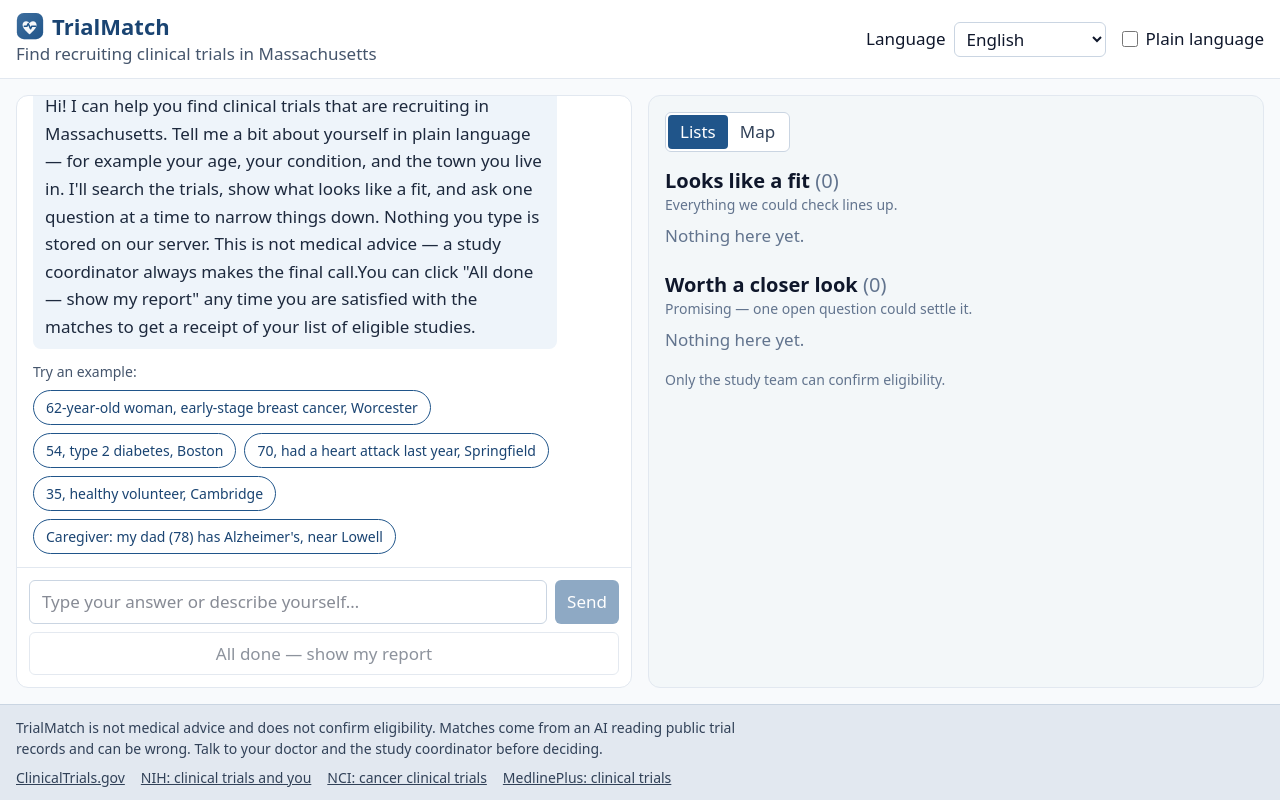
Test: App › finish button sends finish:true and shows the report
The image size is (1280, 800).
(page scrolled)
Expected: the button "All done — show my report" is disabled, top-left (29, 632), bottom-right (619, 675)
Step 1. Type "diabetes" into the field named "Your message" → x=288, y=602, box top-left (29, 580), bottom-right (547, 624)
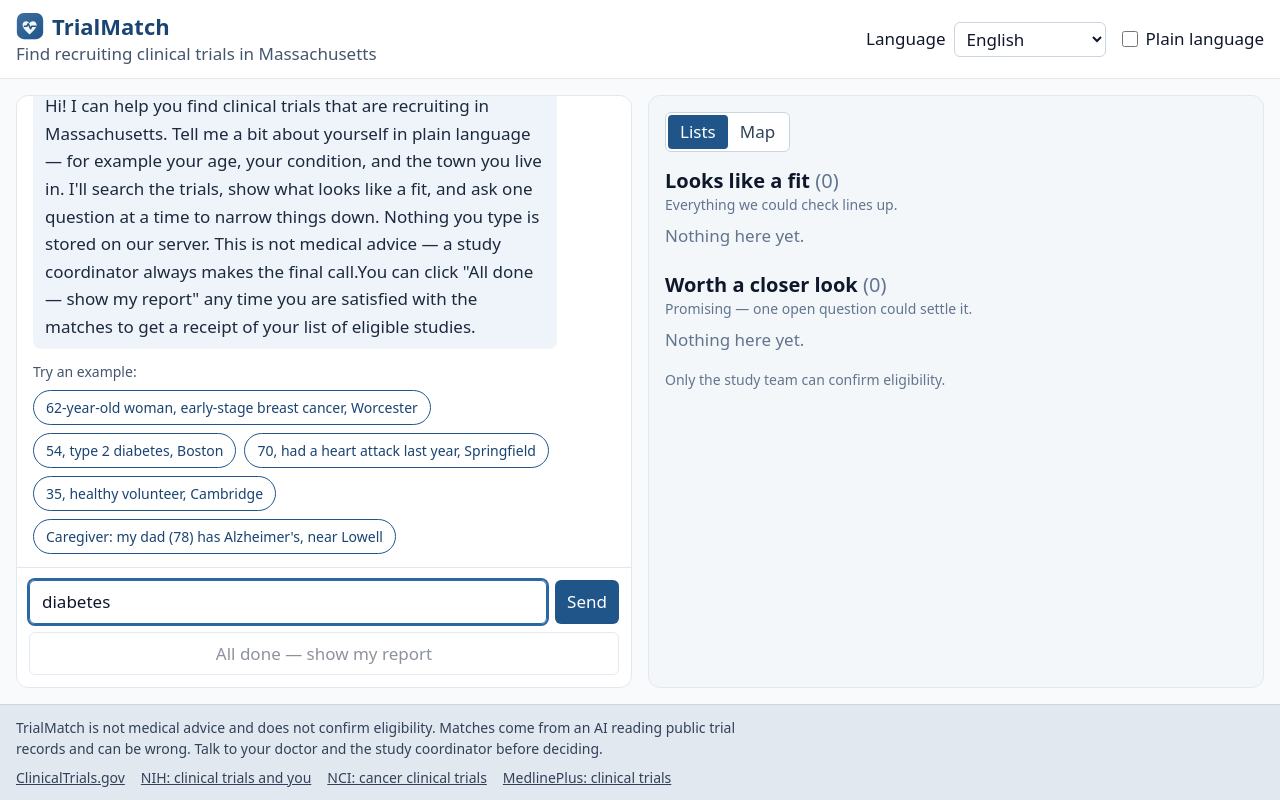
Step 2. Click the button "Send" → x=587, y=602, box top-left (555, 580), bottom-right (619, 624)
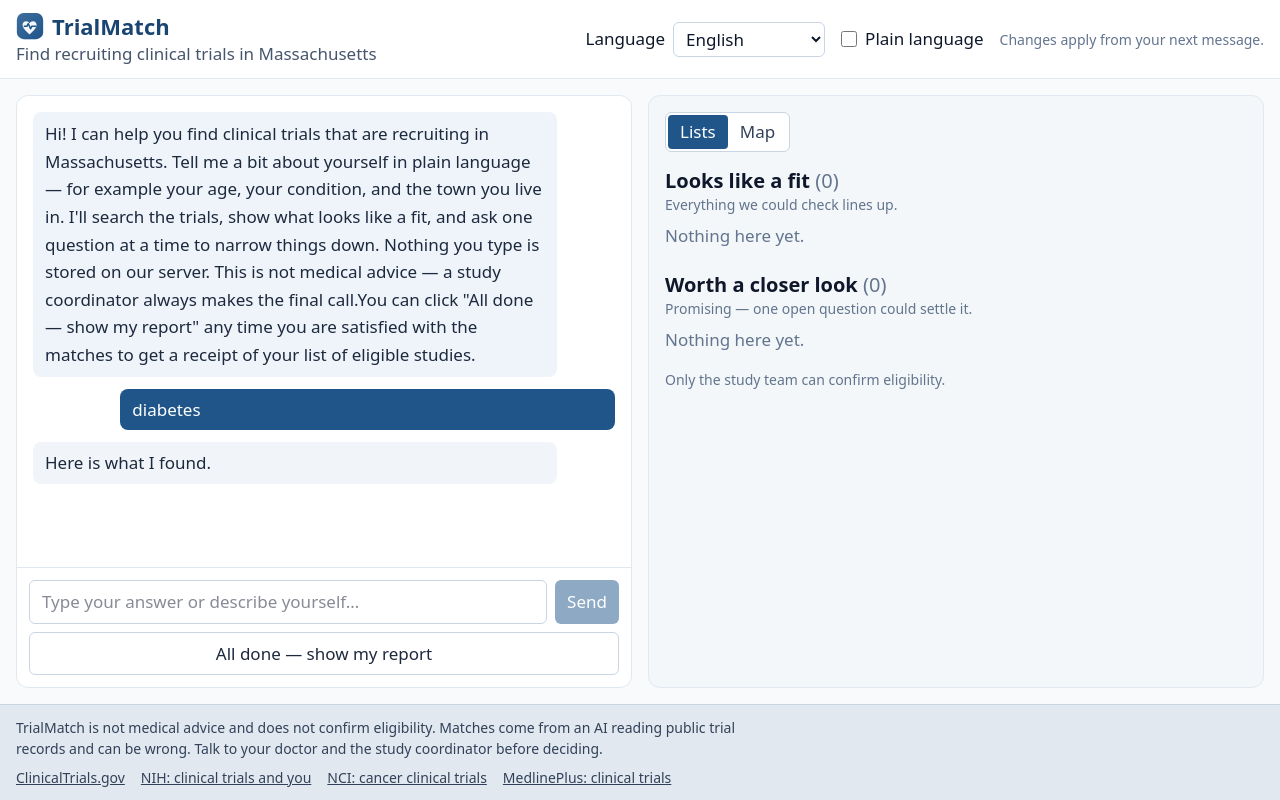
Step 3. Click the button "All done — show my report" → x=324, y=653, box top-left (29, 632), bottom-right (619, 675)
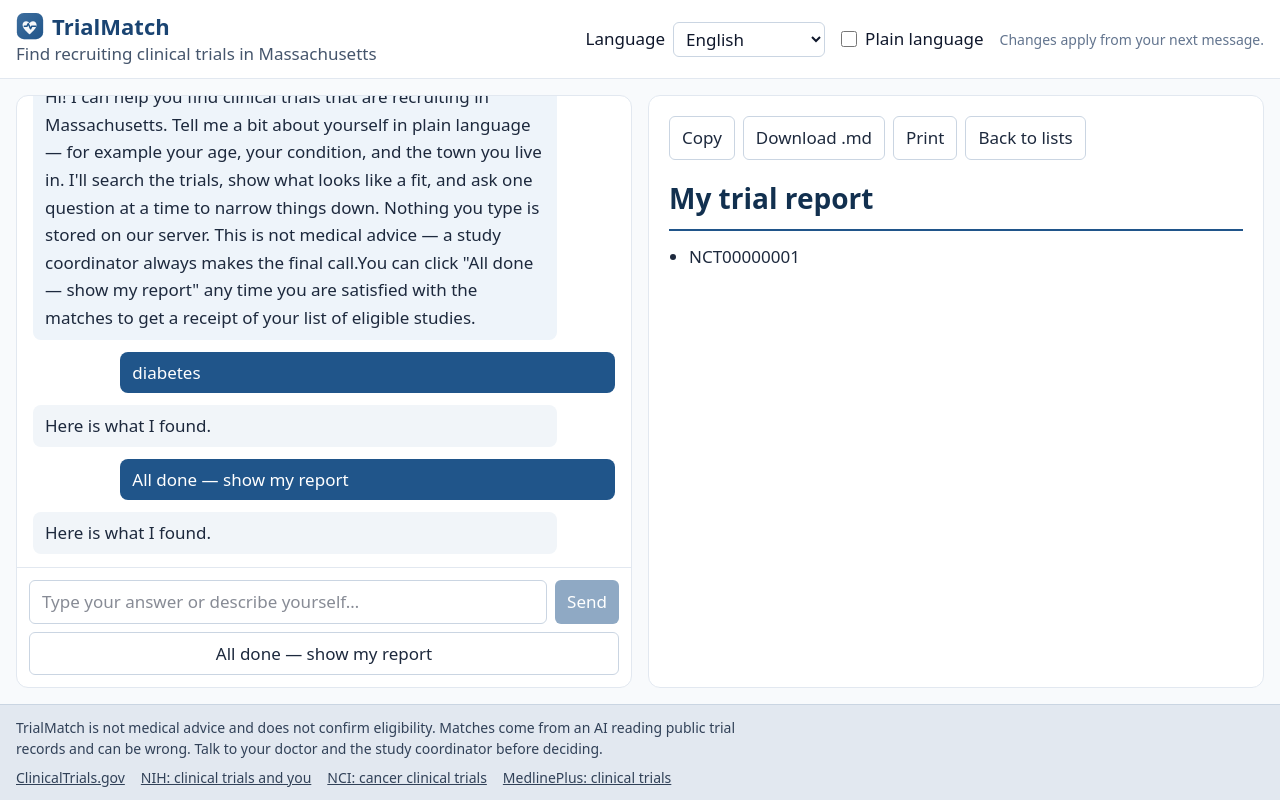
Expected: the heading "My trial report" is shown, top-left (669, 176), bottom-right (1243, 231)
